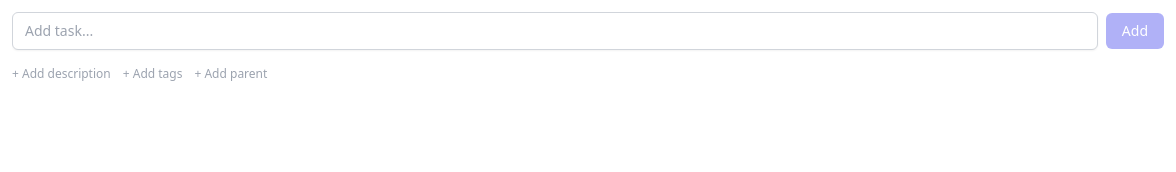
Test: CreateTodoForm › Parent Toggle › should hide "+ Add parent" toggle when picker is shown
Click the button "+ Add parent" at (231, 74), box [194,62,267,86]
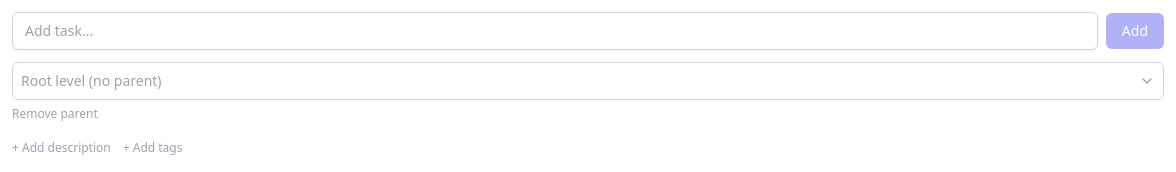
Check: the button "+ Add parent" is gone
